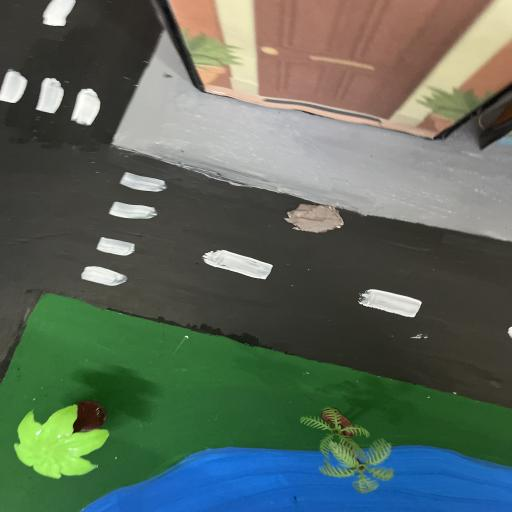porthole: (284, 198, 347, 235)
